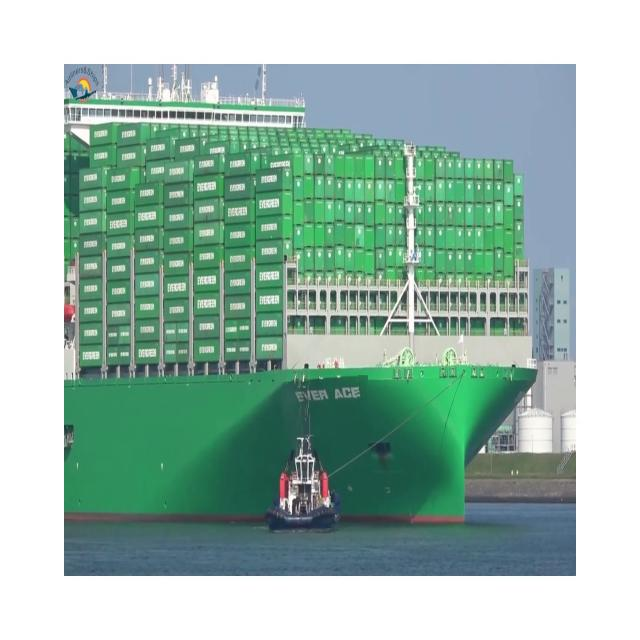OCR: (282, 375, 368, 417)
